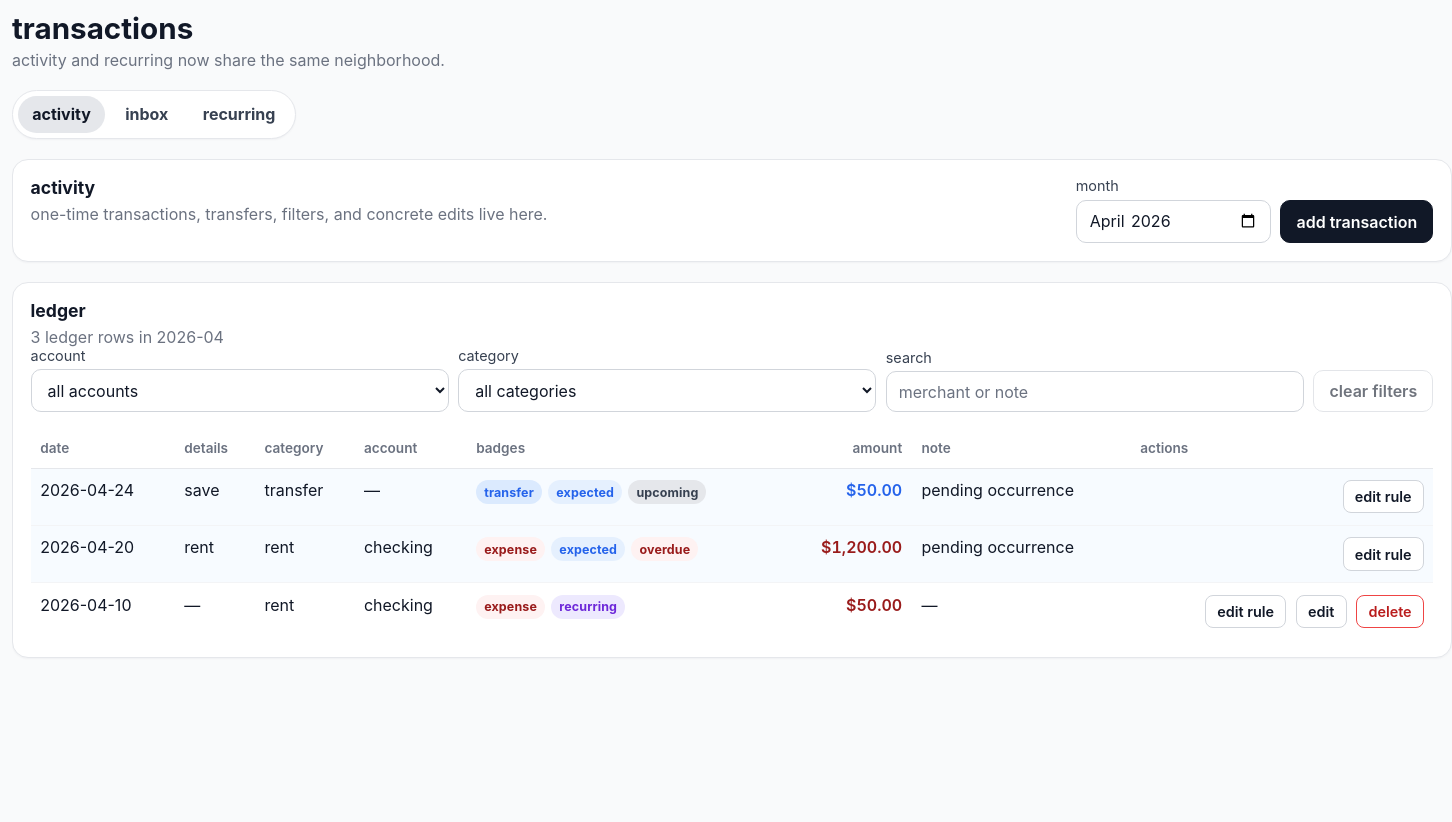
Test case: transactions page recurring navigation › switches to the inbox subview and lists pending expected items only
The width and height of the screenshot is (1452, 822).
Click the tab "inbox".
click(147, 114)  # box [111, 96, 183, 133]
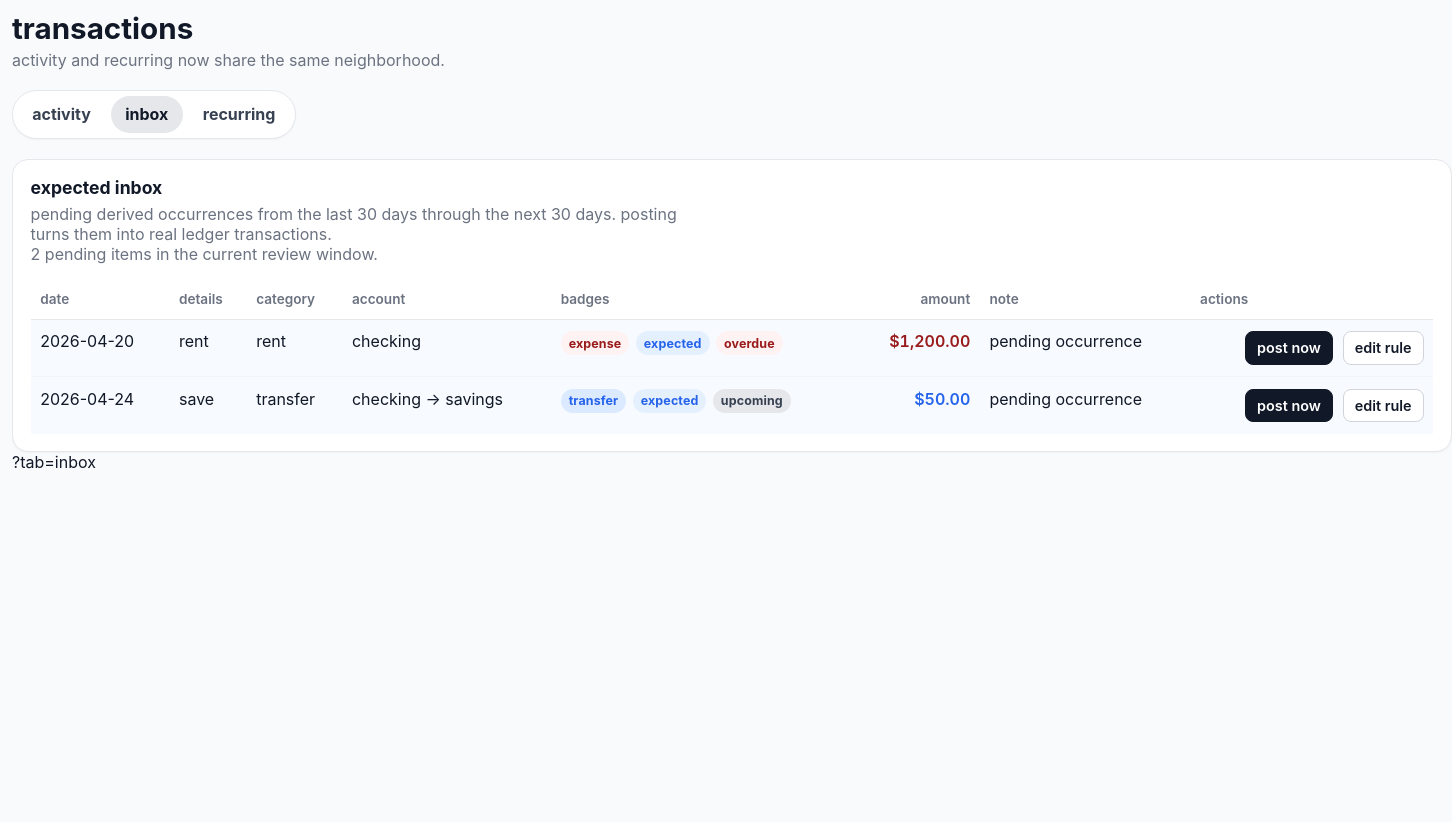
Expected: the button with aria-label "post rent for 2026-04-20" is shown, [1245, 331, 1333, 365]
Expected: the button with aria-label "post save for 2026-04-24" is shown, [1245, 389, 1333, 422]
Expected: the text "checking → savings" is shown, [342, 377, 551, 434]
